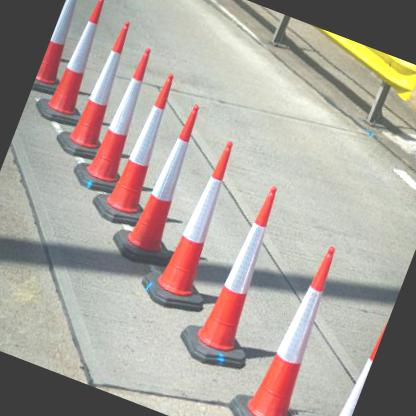cone: (221, 231, 369, 415), (174, 174, 308, 376), (137, 130, 261, 315), (106, 93, 221, 272), (89, 64, 193, 231), (70, 36, 170, 198), (53, 10, 147, 164), (31, 0, 125, 129), (33, 0, 103, 94)
